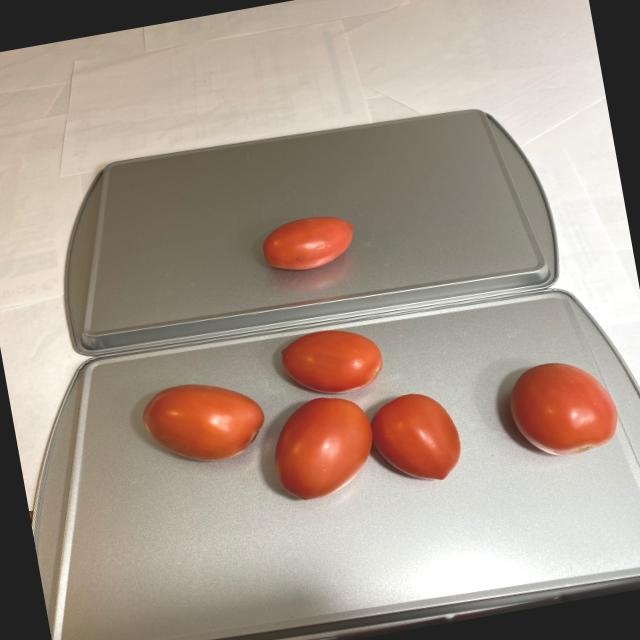tomato: (121, 282, 628, 527), (258, 207, 365, 278)
